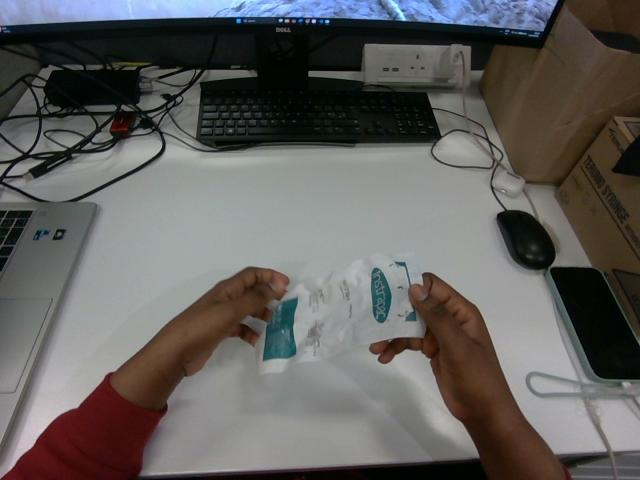gallipot: (256, 254, 424, 372)
